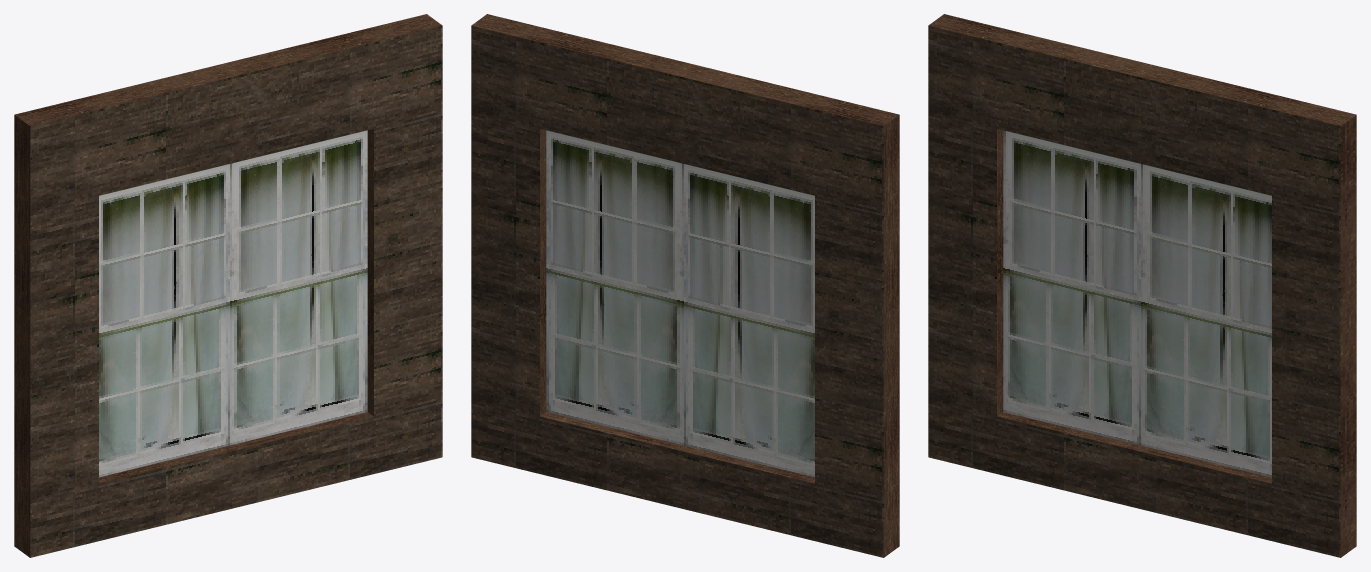
The model's file is window_double_04.glb.
3 views of the same model, side by side, from view 1: azimuth 30°, elevation 25°; view 2: azimuth 150°, elevation 25°; view 3: azimuth 330°, elevation 25° (orthographic).
Parts seen in each view (by area): view 1: window_double_042, window_04_002, window_04_001; view 2: window_double_042, window_04_002, window_04_001; view 3: window_double_042, window_04_001, window_04_002.
Part boxes in pixels (x1=…): window_double_042: x1=14, y1=14, x2=442, y2=557; window_04_002: x1=230, y1=130, x2=367, y2=445; window_04_001: x1=99, y1=164, x2=229, y2=477; window_double_042: x1=471, y1=14, x2=899, y2=557; window_04_002: x1=546, y1=130, x2=683, y2=445; window_04_001: x1=684, y1=164, x2=814, y2=477; window_double_042: x1=928, y1=14, x2=1356, y2=557; window_04_001: x1=1003, y1=130, x2=1140, y2=445; window_04_002: x1=1141, y1=164, x2=1271, y2=477.
Size of the model in its own units: 3 by 3 by 0.2.
Materials: 3 (3 with a texture image).
